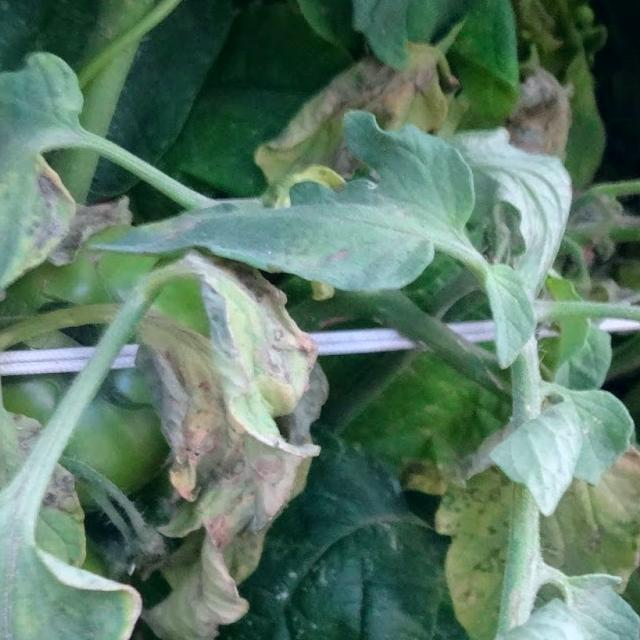Tomato leaf late blight: (89, 98, 490, 289), (0, 434, 201, 640), (0, 40, 102, 334)
